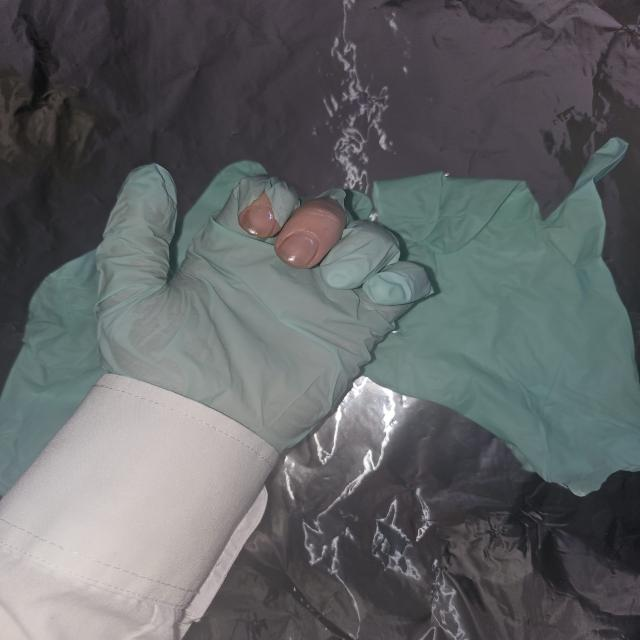gloves_damaged: (93, 159, 441, 458)
